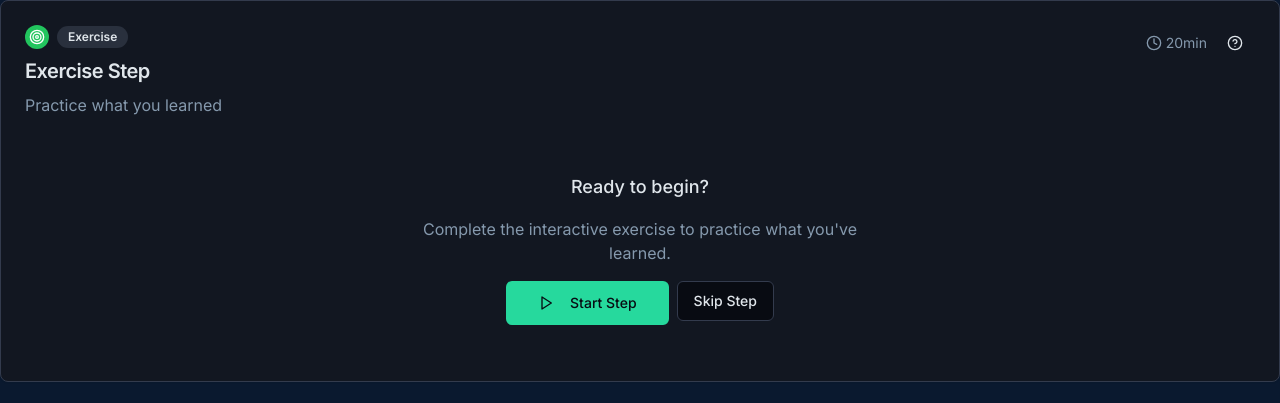
Test: InteractiveStepComponent › Step Completion › should not complete step when validation fails
The image size is (1280, 403).
Later steps or results of the test are not shown.
Click the button "Start Step": (587, 303) [506,281,669,325]
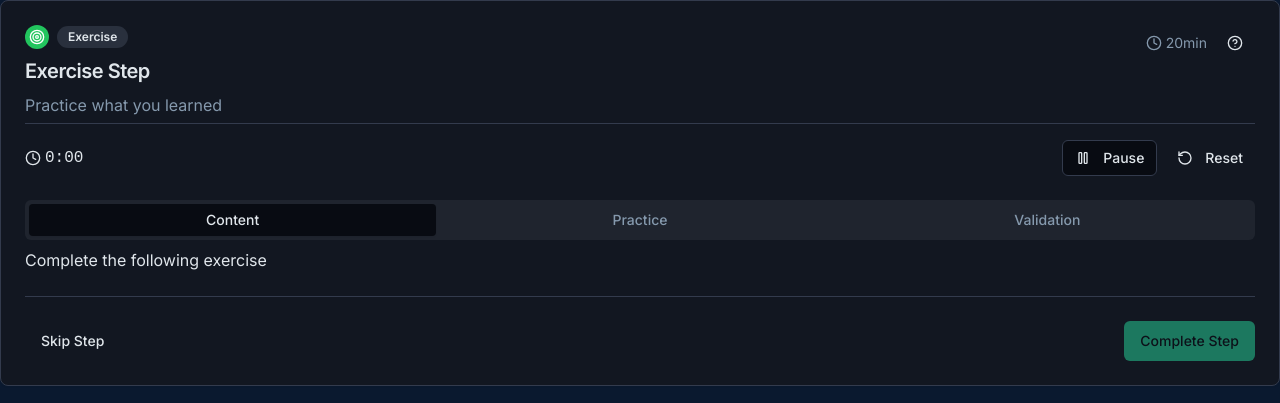
Check: the button "Complete Step" is disabled, box [1124,321,1255,361]
